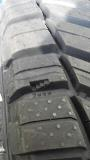temoin:100: (28, 78, 56, 94)
